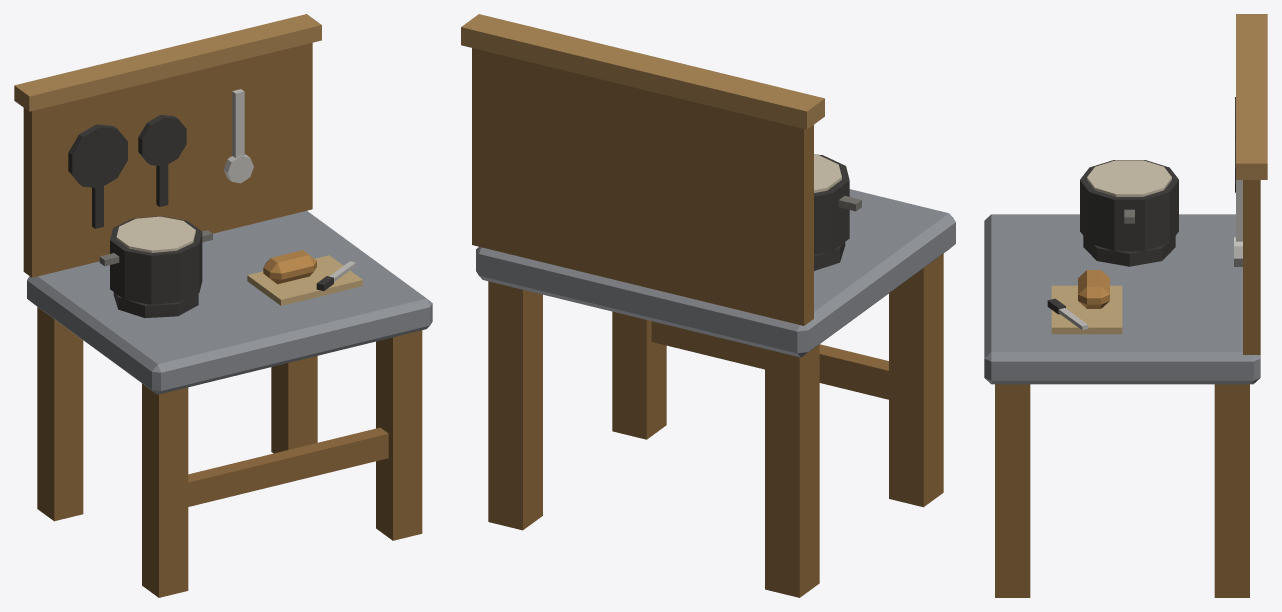
File: wb_cook.fbx
3 views of the same model, side by side, from view 1: azimuth 30°, elevation 25°; view 2: azimuth 150°, elevation 25°; view 3: azimuth 270°, elevation 25° (orthographic). The views are drawn at different scales.
Parts seen in each view (by area): view 1: wb_cook; view 2: wb_cook; view 3: wb_cook.
Part boxes in pixels (x1=…): wb_cook: x1=14, y1=14, x2=432, y2=597; wb_cook: x1=461, y1=14, x2=955, y2=597; wb_cook: x1=984, y1=14, x2=1267, y2=597.
Size of the model in its own units: 3 by 4.13 by 2.4.
